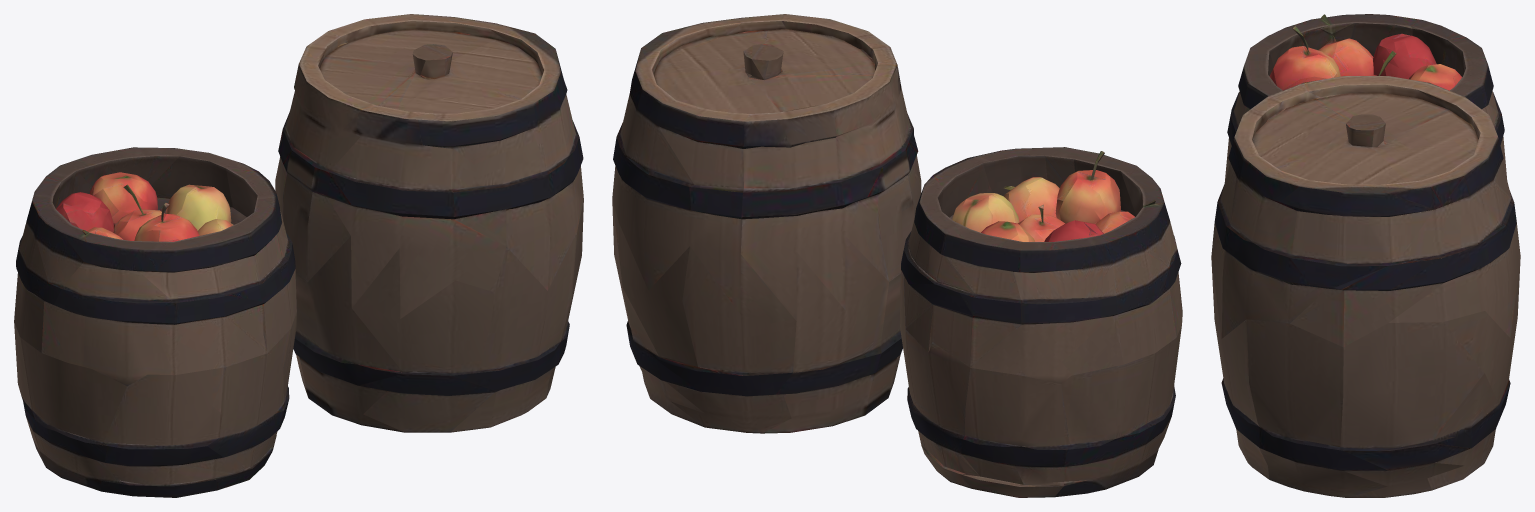
Rendered from barrels.glb.
The picture shows the model from 3 angles, left to right: view 1: azimuth 30°, elevation 25°; view 2: azimuth 150°, elevation 25°; view 3: azimuth 270°, elevation 25°; orthographic projection.
Visible parts, largest first — view 1: barrels; view 2: barrels; view 3: barrels.
Part boxes in pixels (x1,y1,x2,y2): barrels: (14,14,583,497); barrels: (612,14,1182,497); barrels: (1211,14,1520,497).
Bounding box in the file's own units: 1.7 × 1 × 0.8588.
1 material, 1 textured.
